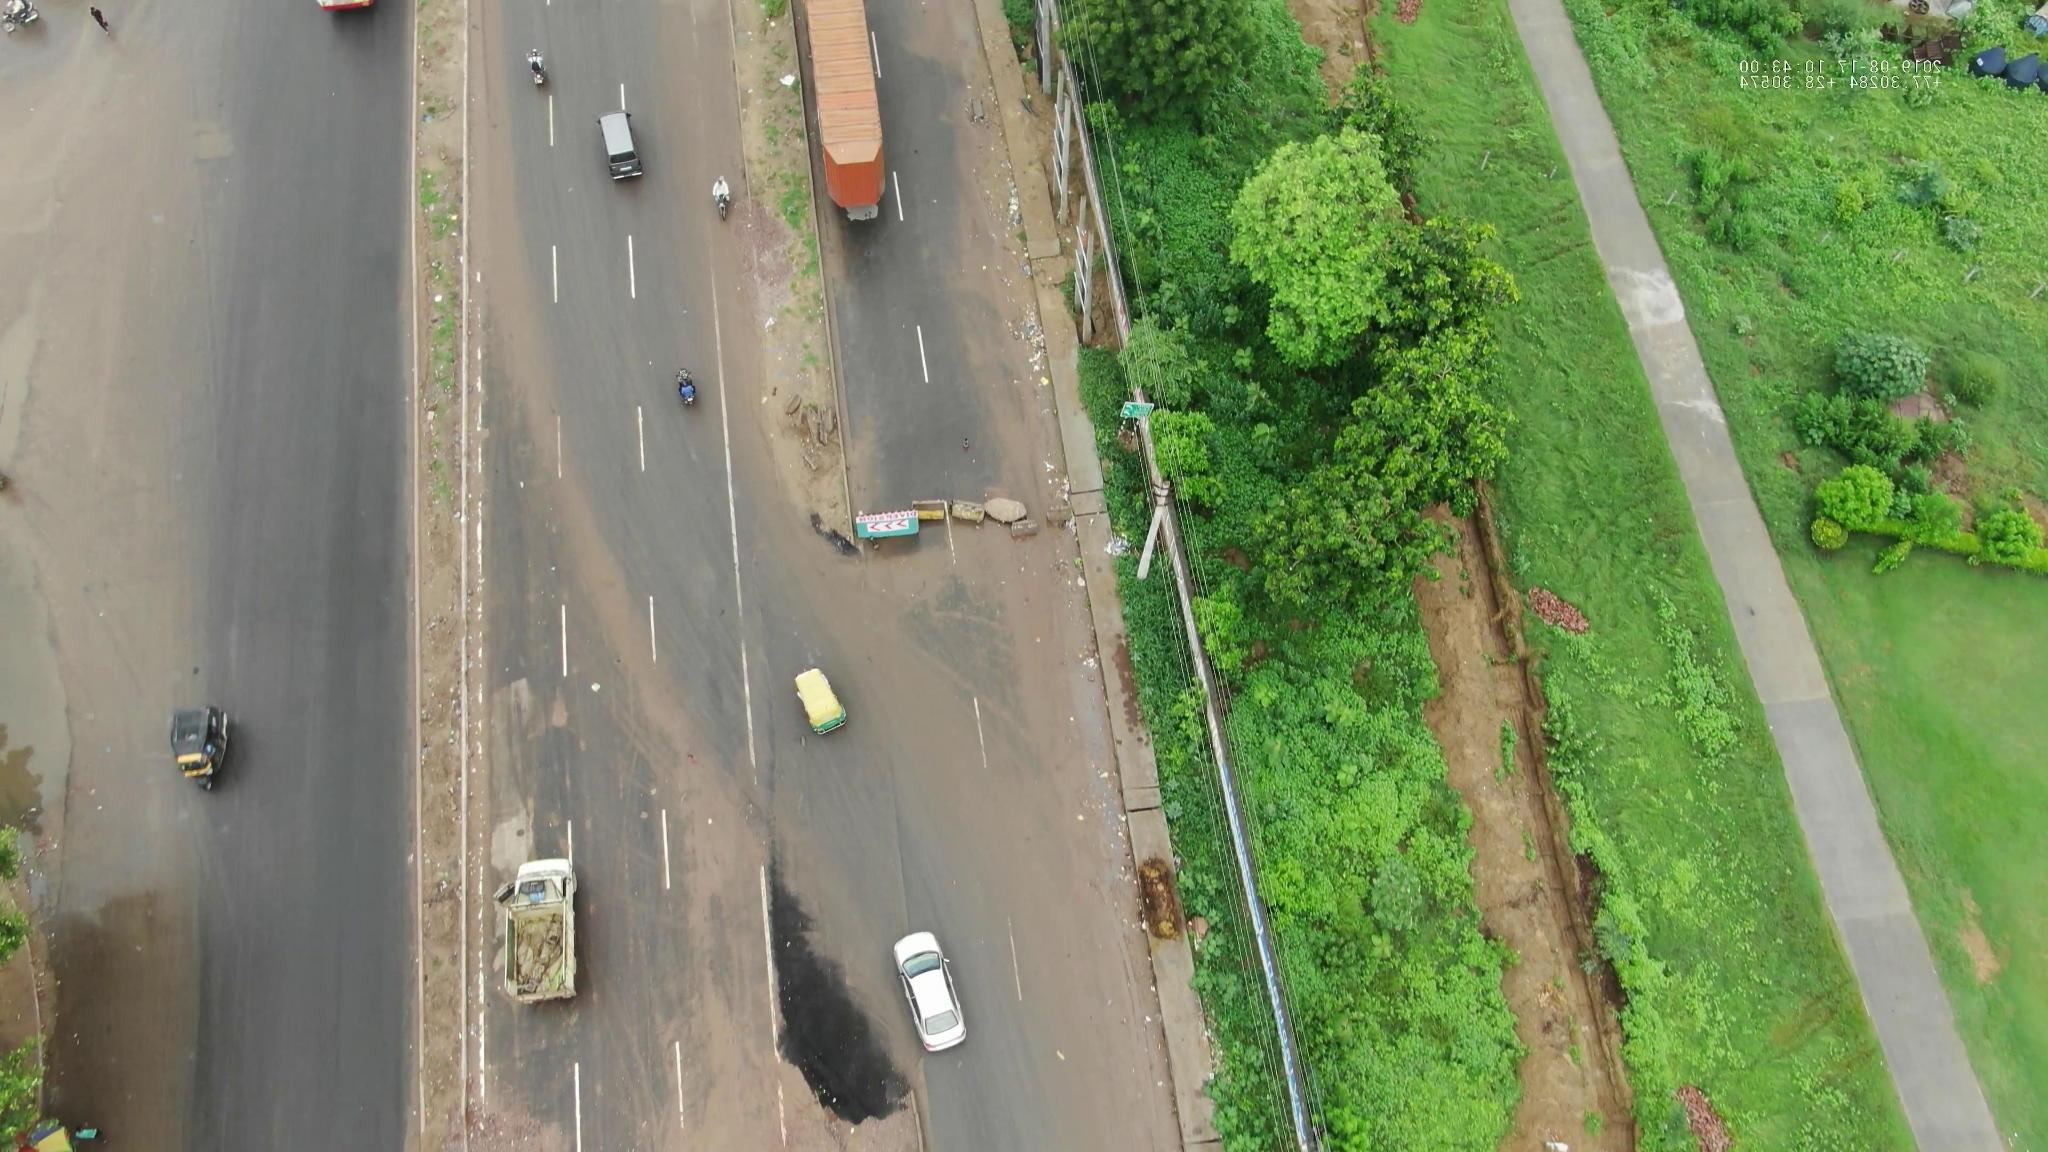Muddy_road: (1056, 871, 1191, 1101), (1013, 632, 1101, 859)
